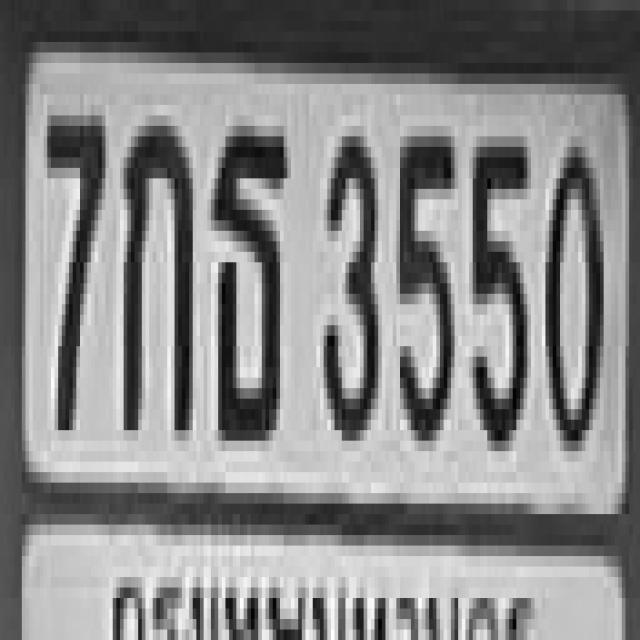0: (542, 136, 600, 441)
10GorGai: (120, 110, 189, 425)
3: (320, 126, 375, 430)
33ThorThong: (207, 116, 284, 430)
5: (469, 126, 524, 441), (396, 126, 451, 430)
7: (44, 105, 102, 420)
Bangkok: (97, 516, 557, 640)
